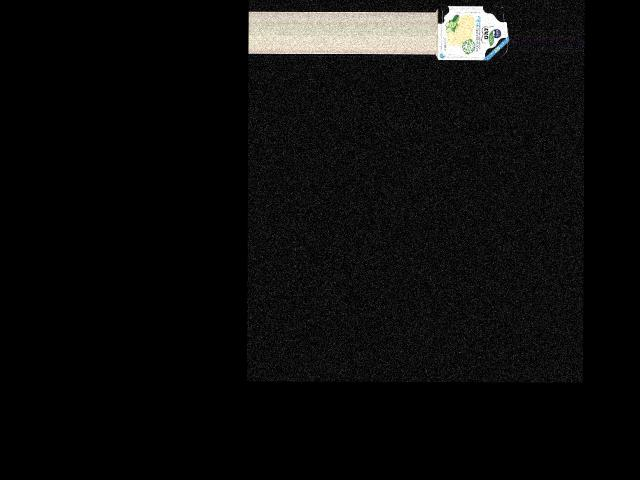cheese: (434, 3, 508, 63)
